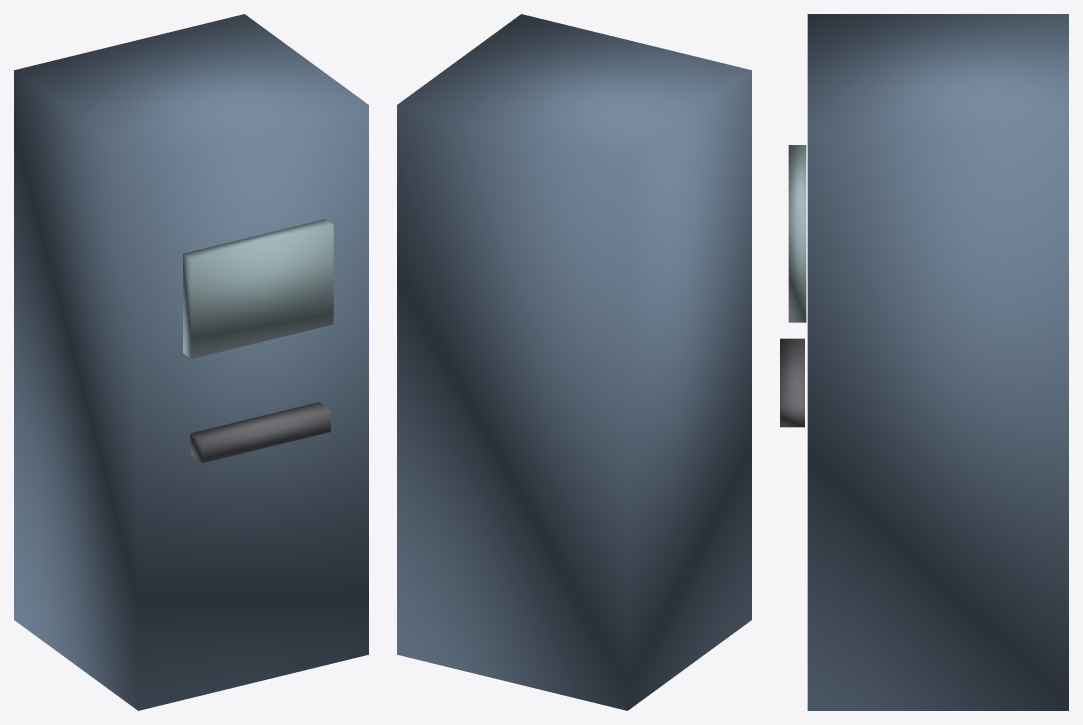
The model's file is information_kiosk__deep.glb.
3 views of the same model, side by side, from view 1: azimuth 30°, elevation 25°; view 2: azimuth 150°, elevation 25°; view 3: azimuth 270°, elevation 25° (orthographic). The views are drawn at different scales.
Visible parts, largest first — view 1: world; view 2: world; view 3: world.
Boxes of the visible parts, box(x1,y1,x2,y2) form: world: box(14, 14, 368, 710); world: box(397, 14, 751, 710); world: box(780, 14, 1068, 710).
Size of the model in its own units: 0.68 by 1.55 by 0.7015.
